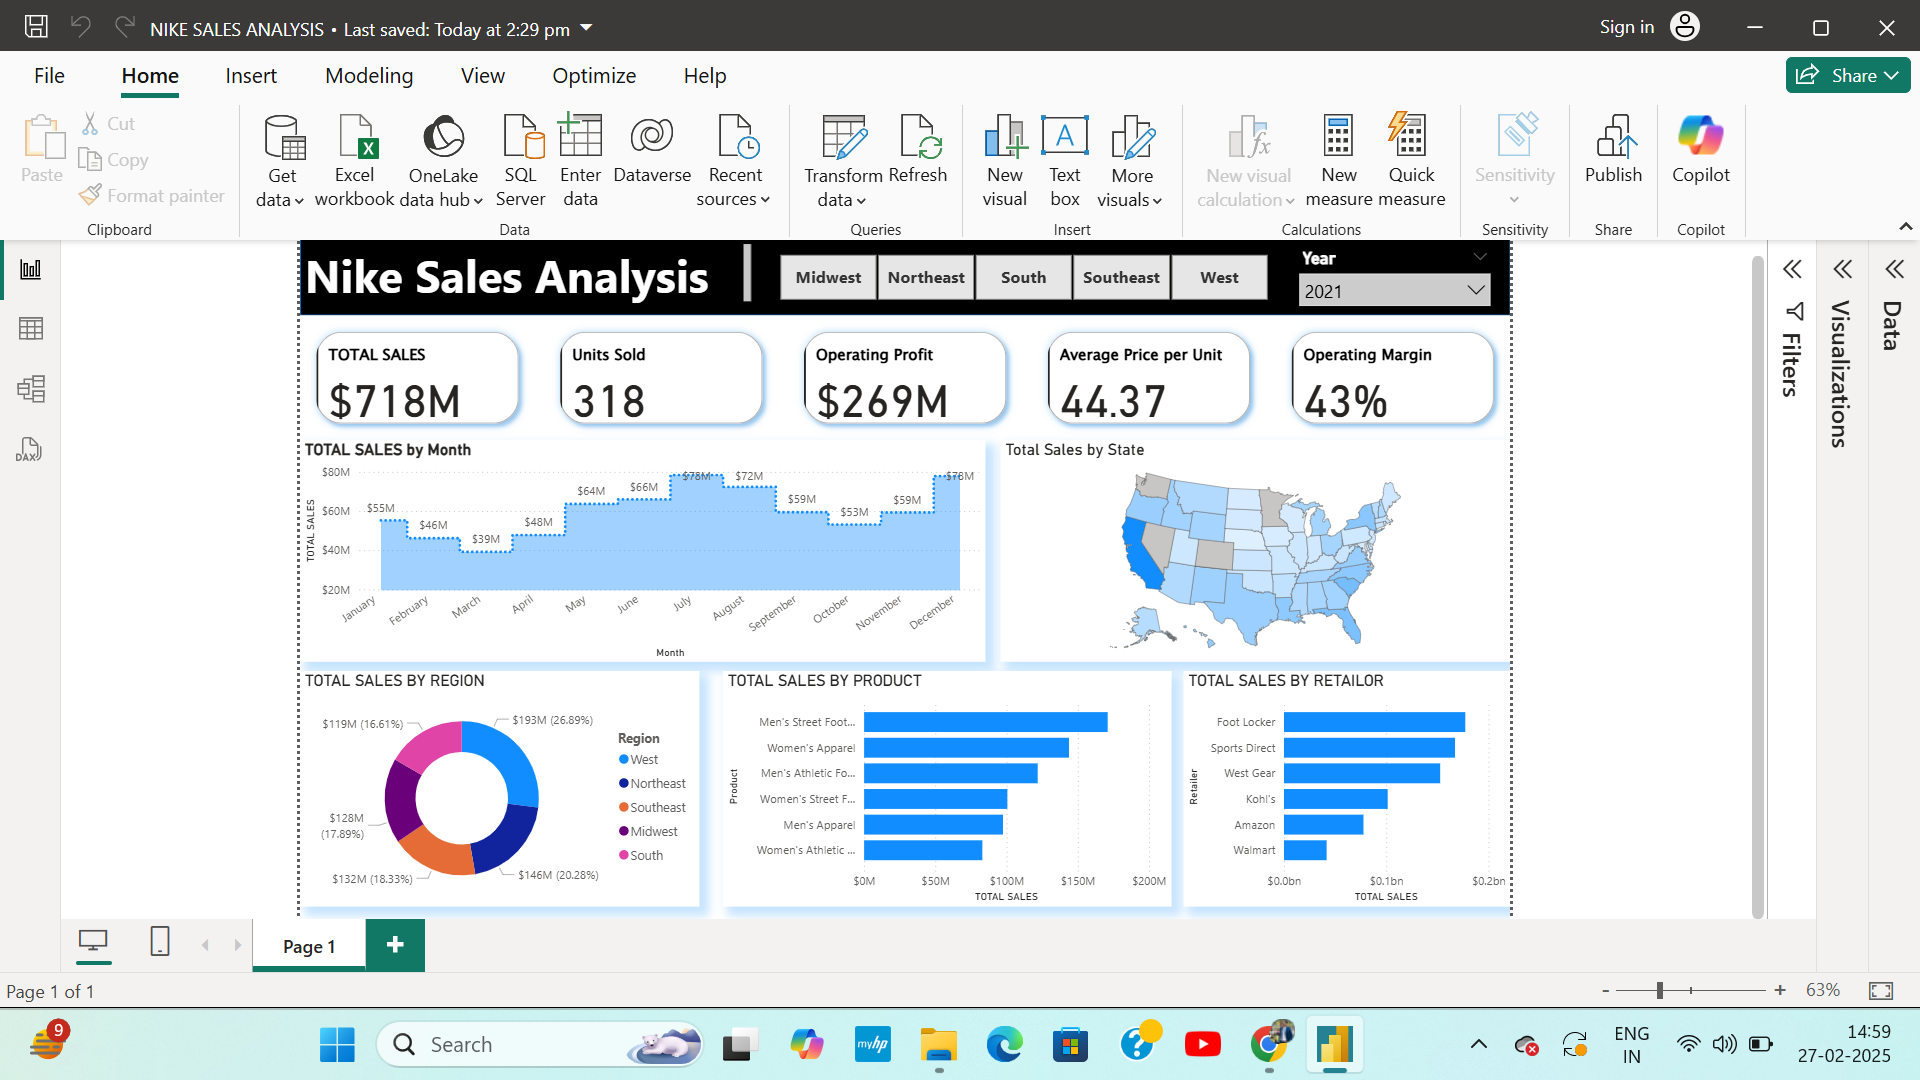

This screenshot's page, from the dashboard's own definition file:
{"tool":"powerbi","page":{"name":"Page 1","canvas":[1280,720],"ordinal":0},"visuals":[{"type":"actionButton","box":[0,0,100,40],"z":0},{"type":"shape","box":[0,0,1280.8,81],"z":1000},{"type":"textbox","box":[0,0,482.5,81],"z":2000},{"type":"cardVisual","fields":{"Data":["Data Sales Adidas.TOTAL  SALES","Count(Data Sales Adidas.Units Sold)","Sum(Data Sales Adidas.Operating Profit)","Avg(Data Sales Adidas.Price per Unit)","Avg(Data Sales Adidas.Operating Margin)"]},"box":[0,81,1280.8,131.2],"z":3000},{"type":"areaChart","fields":{"Category":["Data Sales Adidas.Invoice Date.Variation.Date Hierarchy.Month"],"Y":["Data Sales Adidas.TOTAL  SALES"]},"box":[0,212.1,725.4,234.8],"z":4000},{"type":"shapeMap","title":"Total Sales by State","fields":{"Category":["Data Sales Adidas.State"],"Value":["Sum(Data Sales Adidas.Total Sales)"]},"box":[741.6,212.1,539.2,234.8],"z":5000},{"type":"donutChart","title":"TOTAL  SALES BY REGION","fields":{"Category":["Data Sales Adidas.Region"],"Y":["Data Sales Adidas.TOTAL  SALES"]},"box":[0,456.6,422.6,249.4],"z":6000},{"type":"clusteredBarChart","title":"TOTAL  SALES BY PRODUCT","fields":{"Category":["Data Sales Adidas.Product"],"Y":["Data Sales Adidas.TOTAL  SALES"]},"box":[446.9,456.6,474.4,249.4],"z":7000},{"type":"clusteredBarChart","title":"TOTAL  SALES BY RETAILOR","fields":{"Y":["Data Sales Adidas.TOTAL  SALES"],"Category":["Data Sales Adidas.Retailer"]},"box":[934.3,456.6,346.5,249.4],"z":8000},{"type":"slicer","fields":{"Values":["Data Sales Adidas.Region"]},"box":[482.5,9.7,565.1,61.5],"z":9000},{"type":"slicer","fields":{"Values":["Data Sales Adidas.Invoice Date.Variation.Date Hierarchy.Year"]},"box":[1047.6,4.9,221.8,71.2],"z":10000}]}

Visuals, with their boxes on the page's 1280x720 design canvas (x1, y1, x2, y2). These are canvas units, not pixel positions in the 1920x1080 screenshot, which may show the page scaled, cropped or inside an application window:
actionButton: crop(0, 0, 100, 40)
shape: crop(0, 0, 1281, 81)
textbox: crop(0, 0, 482, 81)
cardVisual - Data Sales Adidas.TOTAL  SALES x Count(Data Sales Adidas.Units Sold): crop(0, 81, 1281, 212)
areaChart - Data Sales Adidas.Invoice Date.Variation.Date Hierarchy.Month x Data Sales Adidas.TOTAL  SALES: crop(0, 212, 725, 447)
"Total Sales by State" shapeMap: crop(742, 212, 1281, 447)
"TOTAL  SALES BY REGION" donutChart: crop(0, 457, 423, 706)
"TOTAL  SALES BY PRODUCT" clusteredBarChart: crop(447, 457, 921, 706)
"TOTAL  SALES BY RETAILOR" clusteredBarChart: crop(934, 457, 1281, 706)
slicer - Data Sales Adidas.Region: crop(482, 10, 1048, 71)
slicer - Data Sales Adidas.Invoice Date.Variation.Date Hierarchy.Year: crop(1048, 5, 1269, 76)
